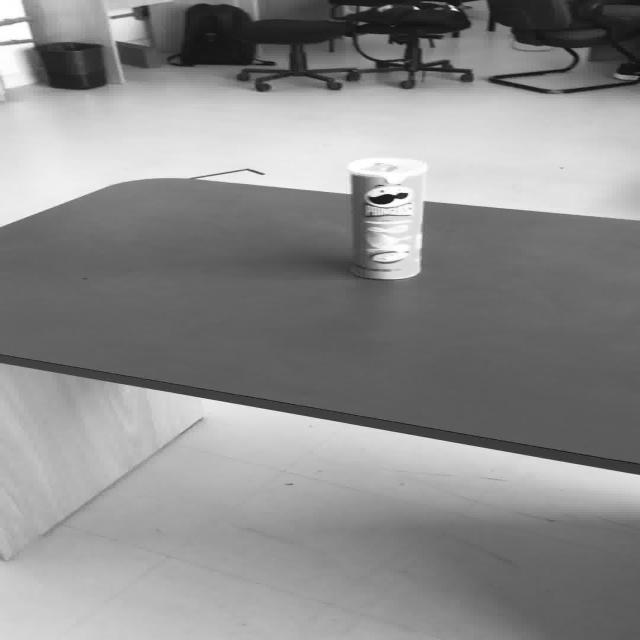pringles: (346, 157, 427, 279)
